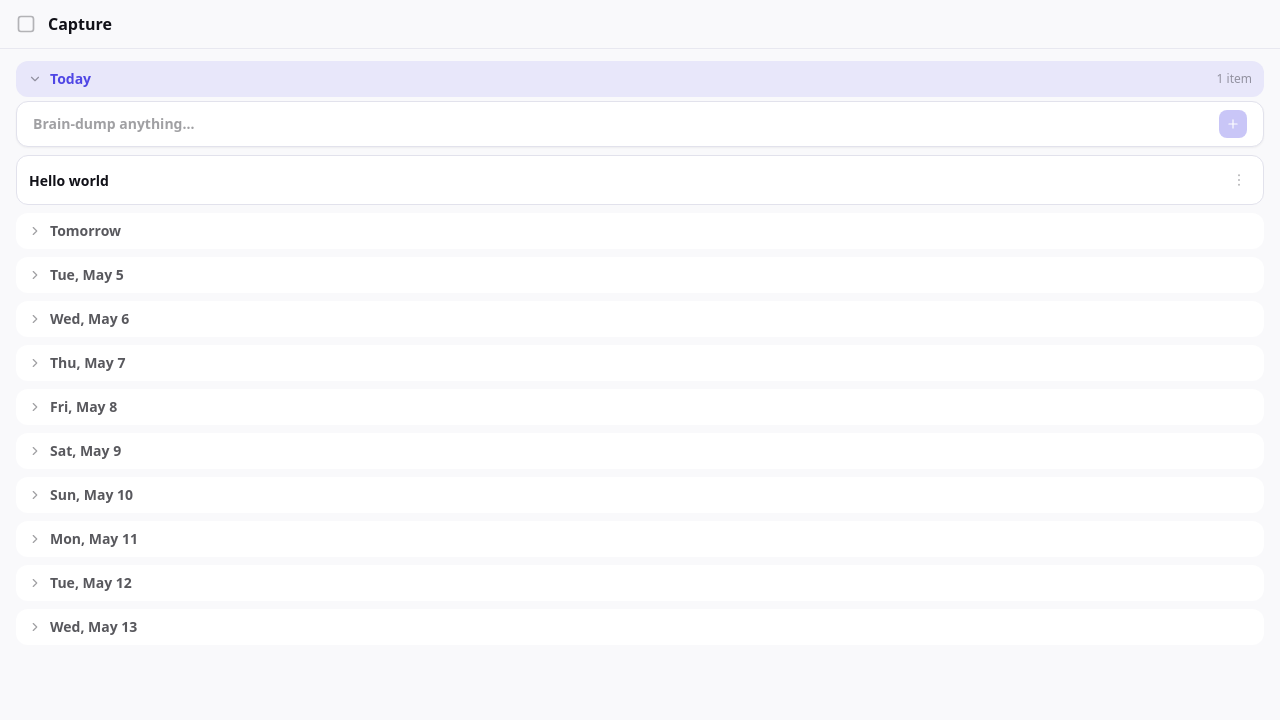
Scenario: Capture › 4a-13: collapsing a date section hides its notes
Expected: the text "Hello world" is shown, [29, 171, 109, 190]
Collapse today
Click the button with aria-label "Collapse Today" at {"x": 71, "y": 78}, box [16, 61, 1264, 97]
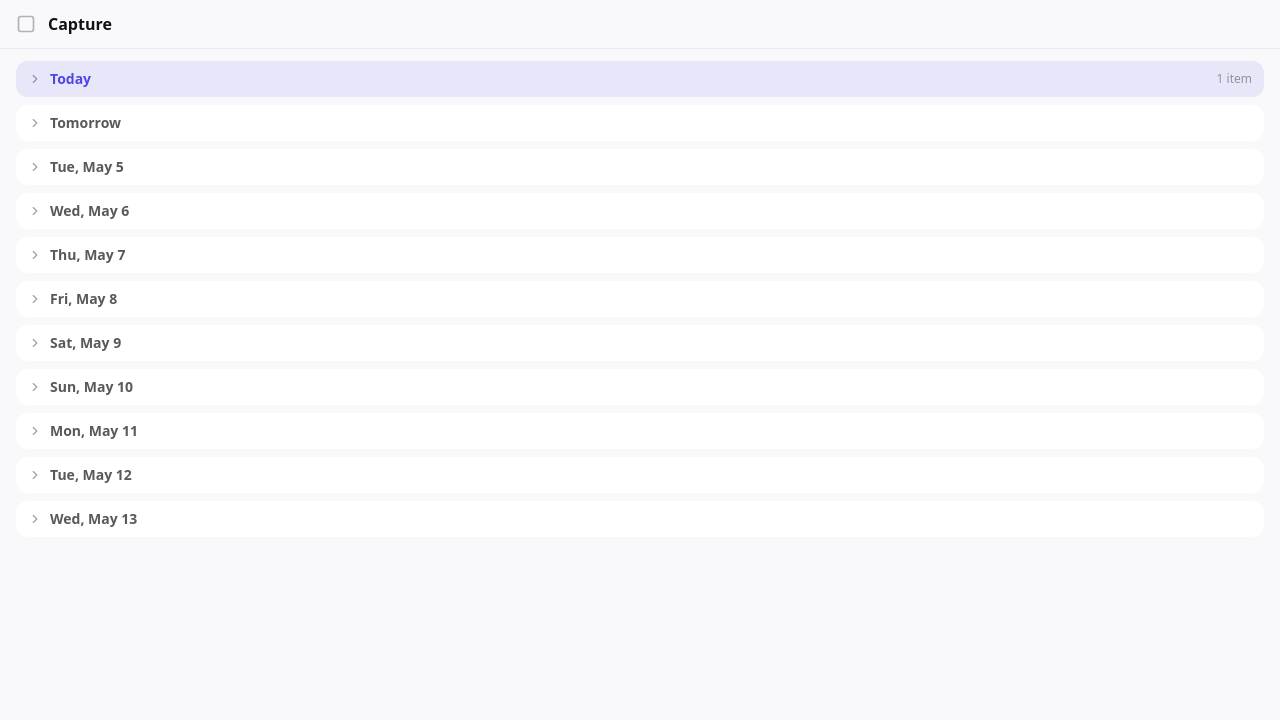
Expected: the text "Hello world" is gone
